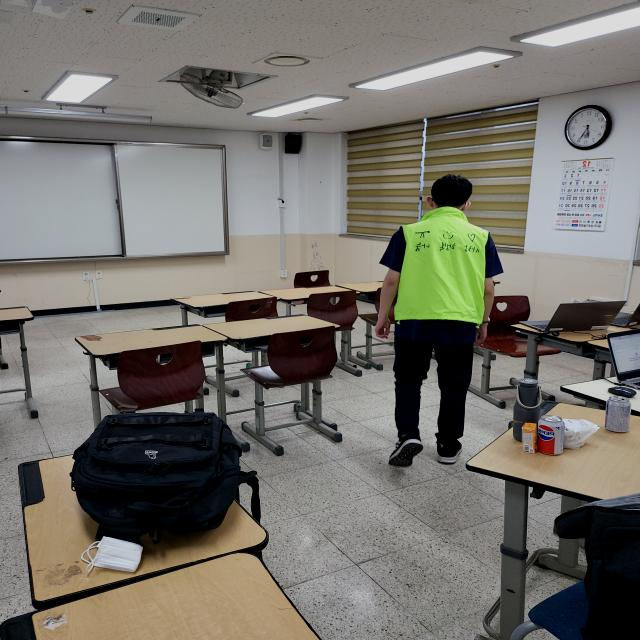weston_spy: (388, 202, 497, 330)
